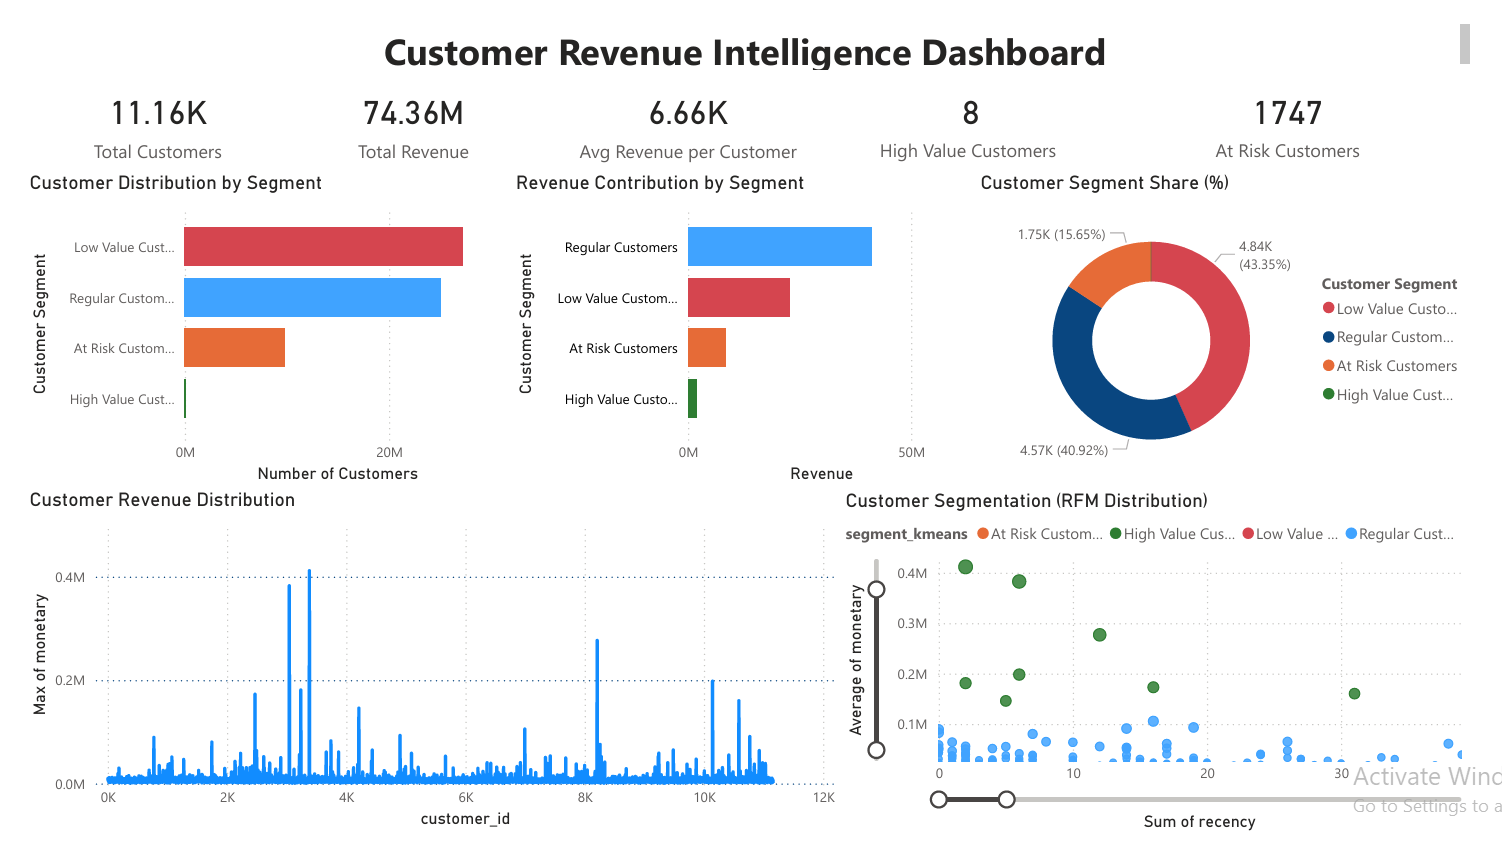

The dashboard page shown, as its layout file describes it:
{"tool":"powerbi","page":{"name":"Page 1","canvas":[1280,720],"ordinal":0},"visuals":[{"type":"card","fields":{"Values":["Count(kmeans_segmented.customer_id)"]},"box":[0,48.6,235.7,85.7],"z":0},{"type":"card","fields":{"Values":["Sum(kmeans_segmented.monetary)"]},"box":[235.7,48.6,215.7,85.7],"z":1000},{"type":"card","fields":{"Values":["Avg(kmeans_segmented.monetary)"]},"box":[452,49,268,85],"z":2000},{"type":"clusteredBarChart","title":"Customer Distribution by Segment","fields":{"Category":["kmeans_segmented.segment_kmeans"],"Y":["Sum(kmeans_segmented.customer_id)"]},"box":[0,134.3,428.7,279.6],"z":3000},{"type":"clusteredBarChart","title":"Revenue Contribution by Segment","fields":{"Category":["kmeans_segmented.segment_kmeans"],"Y":["Sum(kmeans_segmented.monetary)"]},"box":[429.2,134.5,409.6,280],"z":4000},{"type":"donutChart","title":"Customer Segment Share (%)","fields":{"Category":["kmeans_segmented.segment_kmeans"],"Y":["Count(kmeans_segmented.customer_id)"]},"box":[838.6,134.3,441.4,280],"z":5000},{"type":"card","fields":{"Values":["Count(kmeans_segmented.customer_id)"]},"box":[720,48,230,86],"z":6000},{"type":"card","fields":{"Values":["Count(kmeans_segmented.customer_id)"]},"box":[950,48,330,86],"z":7000},{"type":"lineChart","title":"Customer Revenue Distribution","fields":{"Category":["kmeans_segmented.customer_id"],"Y":["Max(kmeans_segmented.monetary)"]},"box":[0,413.3,720,305],"z":8000},{"type":"scatterChart","title":"Customer Segmentation (RFM Distribution)","fields":{"Y":["Avg(kmeans_segmented.monetary)"],"Size":["Avg(kmeans_segmented.frequency)"],"X":["Sum(kmeans_segmented.recency)"],"Series":["kmeans_segmented.segment_kmeans"],"Category":["kmeans_segmented.customer_id"]},"box":[720,414.3,560,305.7],"z":9000},{"type":"textbox","box":[0,0,1280,49],"z":10000}]}

Visuals, with their boxes in screenshot pixels (x1, y1, x2, y2), scaled from the page's 1280x720 canvas onto the 1502x856 screenshot:
card - Count(kmeans_segmented.customer_id): {"left": 0, "top": 58, "right": 277, "bottom": 160}
card - Sum(kmeans_segmented.monetary): {"left": 277, "top": 58, "right": 530, "bottom": 160}
card - Avg(kmeans_segmented.monetary): {"left": 530, "top": 58, "right": 845, "bottom": 159}
"Customer Distribution by Segment" clusteredBarChart: {"left": 0, "top": 160, "right": 503, "bottom": 492}
"Revenue Contribution by Segment" clusteredBarChart: {"left": 504, "top": 160, "right": 984, "bottom": 493}
"Customer Segment Share (%)" donutChart: {"left": 984, "top": 160, "right": 1501, "bottom": 493}
card - Count(kmeans_segmented.customer_id): {"left": 845, "top": 57, "right": 1115, "bottom": 159}
card - Count(kmeans_segmented.customer_id): {"left": 1115, "top": 57, "right": 1501, "bottom": 159}
"Customer Revenue Distribution" lineChart: {"left": 0, "top": 491, "right": 845, "bottom": 854}
"Customer Segmentation (RFM Distribution)" scatterChart: {"left": 845, "top": 493, "right": 1501, "bottom": 855}
textbox: {"left": 0, "top": 0, "right": 1501, "bottom": 58}
